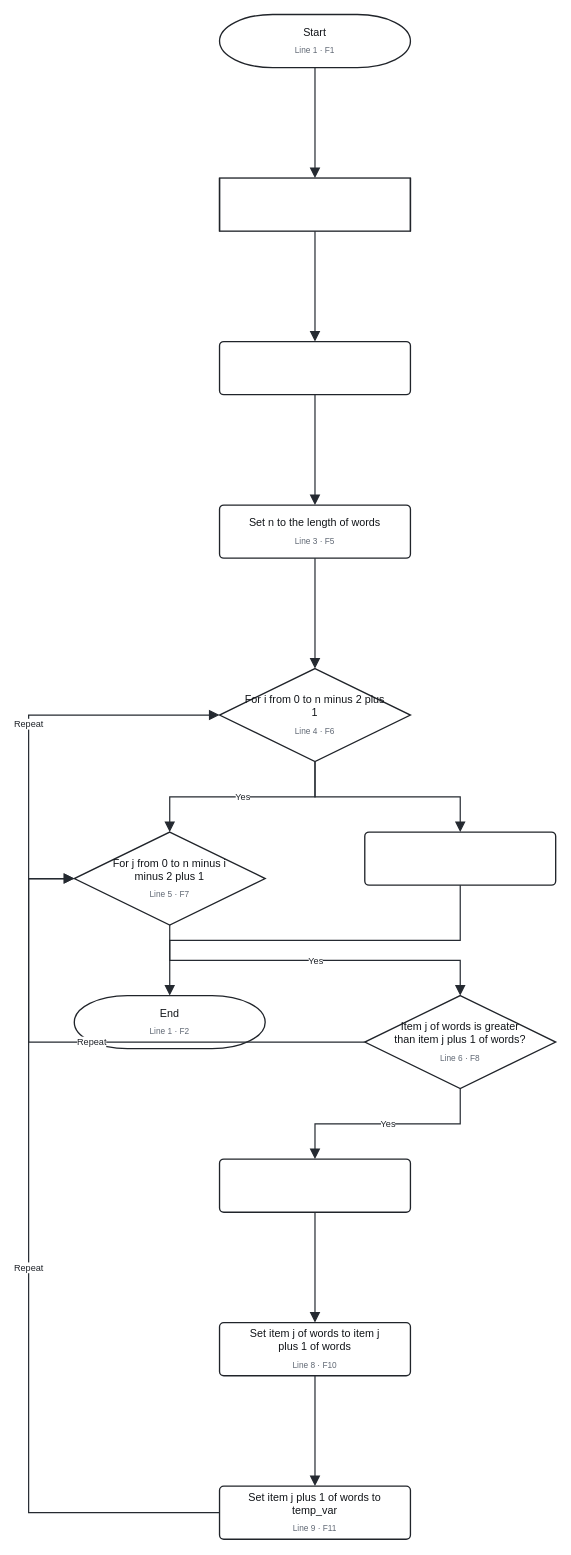
Image size: 571x1555. Some labels were removed from this diagram. Here are the shapes that lost their labels. From the top down, the centre of each, then its label:
At pixel 314 204: "Run function sortWords with words Line 1 · F3".
At pixel 314 367: "Using a simple bubble sort for demonstration Line 2 · F4".
At pixel 460 858: "Return words Line 13 · F12".
At pixel 314 1185: "Set temp_var to item j of words Line 7 · F9".
